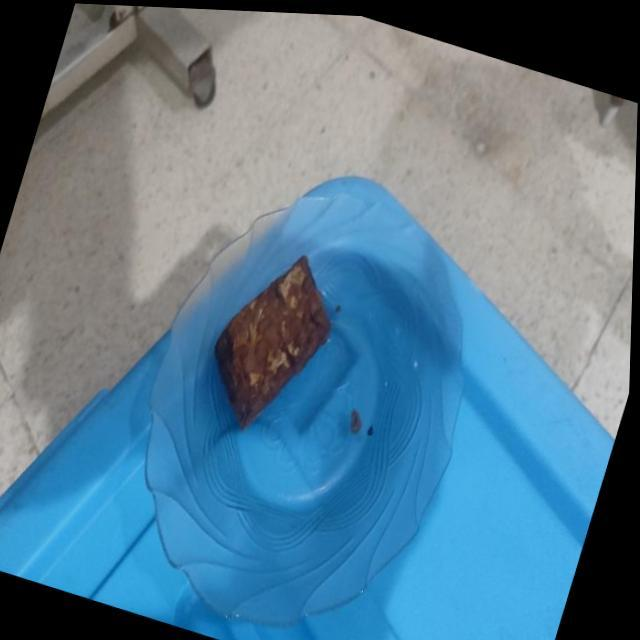tempe_goreng: (214, 256, 330, 429)
